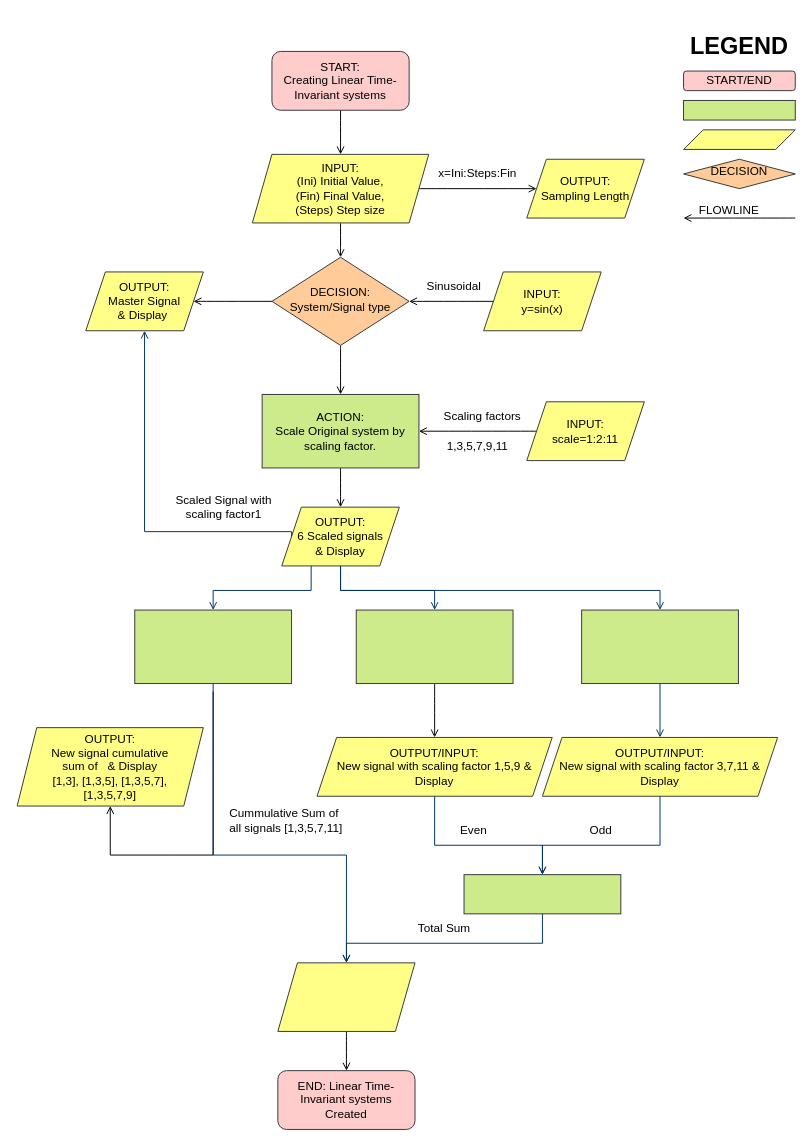
This 812x1147 diagram has some shape labels left out. The shapes that lost their labels are listed below. From the top down, each one's centre as x and y in pixels, then its label:
At point 739,109: "ACTION/PROCESS".
At point 739,139: "INPUT/OUTPUT".
At point 213,646: "ACTION: Cummulative sum".
At point 434,646: "ACTION: Summation of Even rows scalling factor: 1,5,9".
At point 659,646: "ACTION: Summation of odd rows scalling factor: 3,7,11".
At point 542,894: "ACTION: Summation of Even + Odd".
At point 346,996: "OUTPUT: Total Sum & Cummulative Sum & Display".
